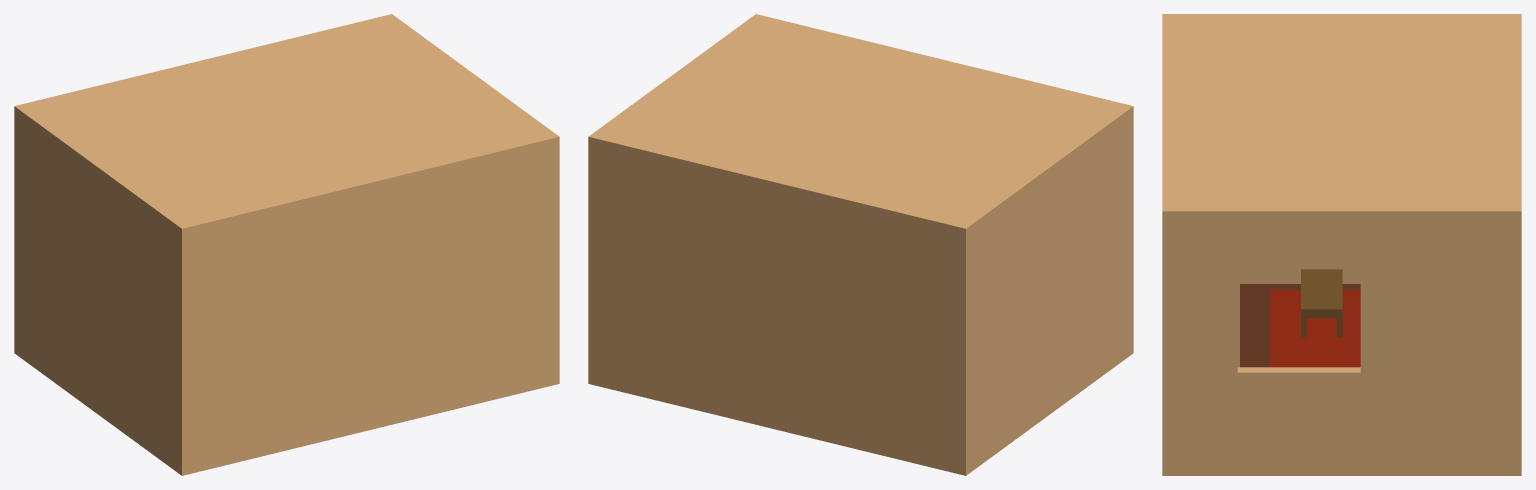
File: S_salon.glb
The picture shows the model from 3 angles, left to right: view 1: azimuth 30°, elevation 25°; view 2: azimuth 150°, elevation 25°; view 3: azimuth 270°, elevation 25°; orthographic projection. The views are drawn at different scales.
Parts seen in each view (by area): view 1: murAvecFenetre, Plane.005; view 2: murAvecFenetre, Plane.005; view 3: murAvecFenetre, Plane.005, Plane.002, Plane, Cube.009, Plane.010.
Boxes of the visible parts, left/top/right/bottom form: murAvecFenetre: left=14, top=14, right=559, bottom=475; Plane.005: left=31, top=21, right=542, bottom=221; murAvecFenetre: left=588, top=14, right=1133, bottom=475; Plane.005: left=605, top=21, right=1116, bottom=221; murAvecFenetre: left=1162, top=14, right=1521, bottom=475; Plane.005: left=1176, top=19, right=1507, bottom=205; Plane.002: left=1270, top=290, right=1360, bottom=367; Plane: left=1240, top=284, right=1360, bottom=367; Cube.009: left=1301, top=269, right=1342, bottom=337; Plane.010: left=1176, top=124, right=1239, bottom=367.
Bounding box in the file's own units: 4.23 × 2.67 × 3.25.
